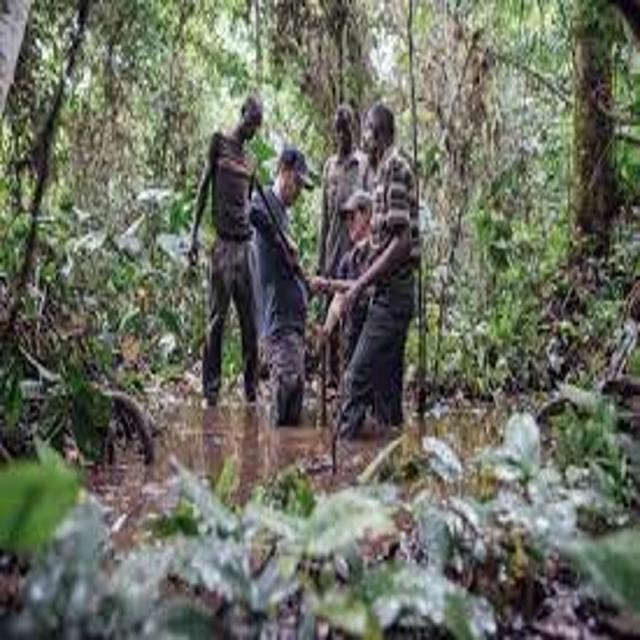poacher: (315, 90, 492, 481), (214, 136, 357, 467), (159, 66, 284, 420), (305, 175, 432, 506), (280, 90, 393, 427)
